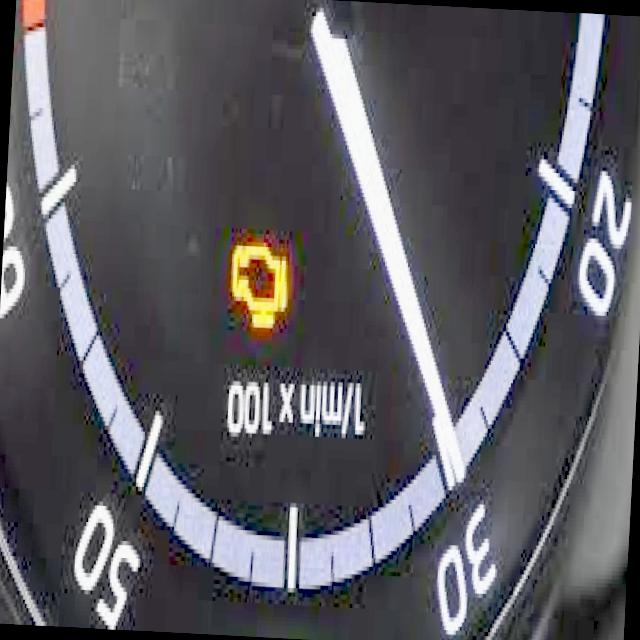kontrolka: (219, 222, 298, 348)
